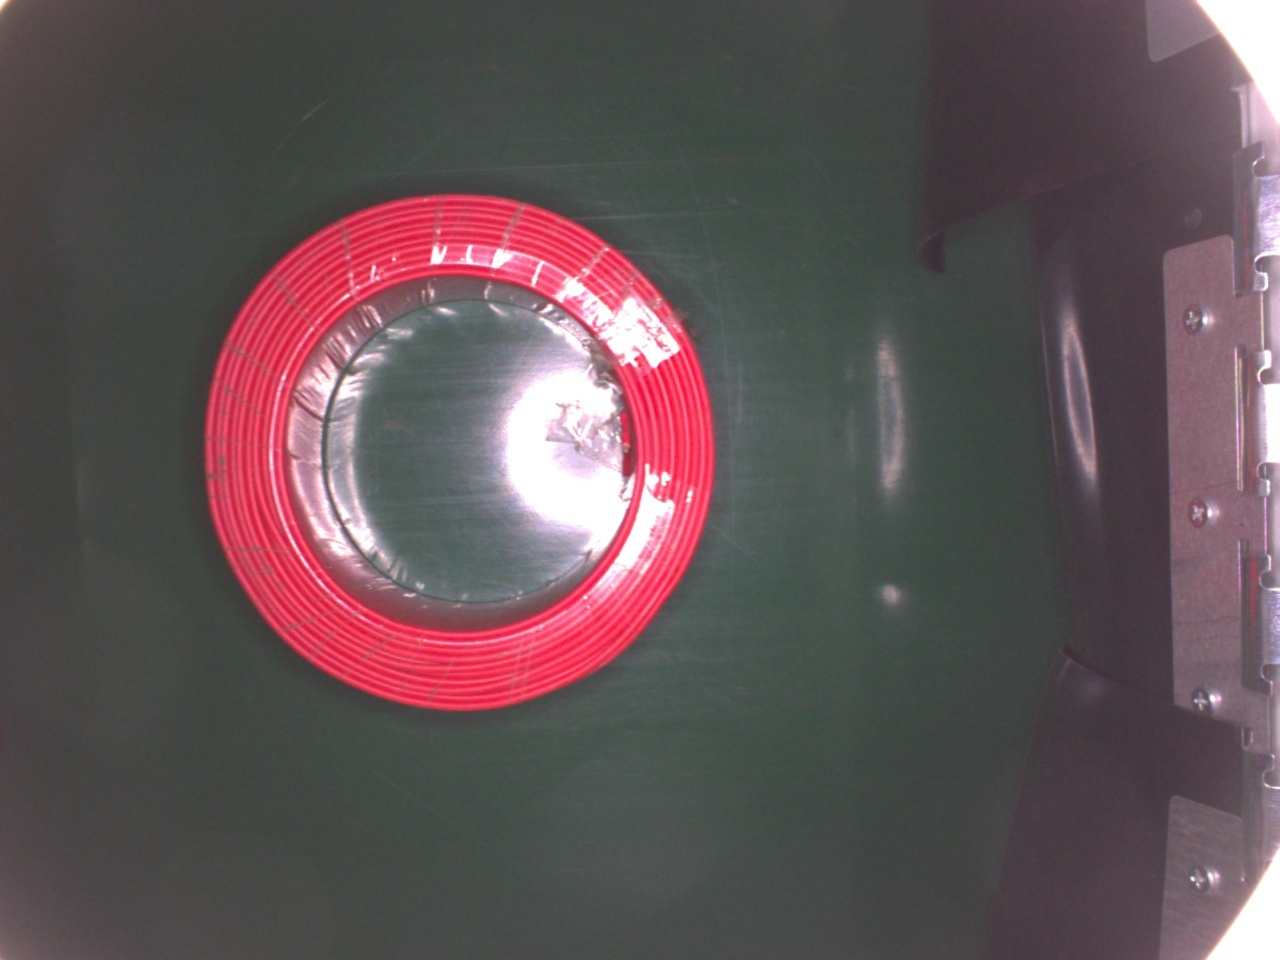red: (201, 189, 718, 716)
